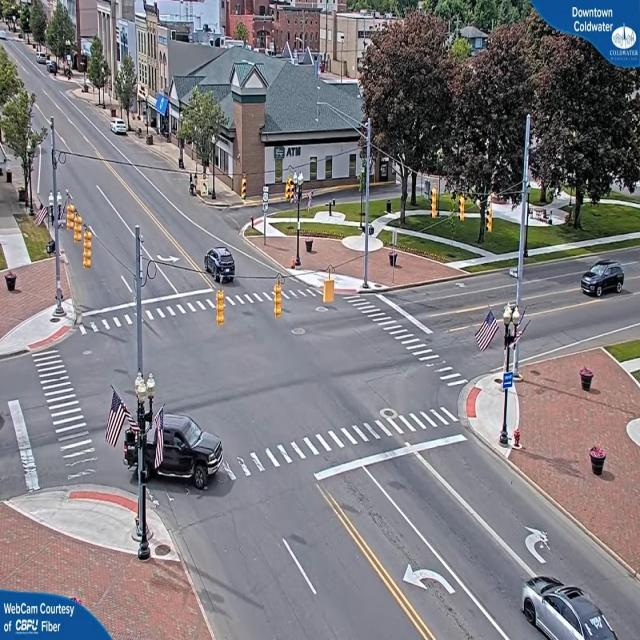car: (520, 579, 634, 640), (154, 410, 226, 491), (582, 261, 627, 298), (206, 248, 238, 284), (112, 121, 130, 138)
